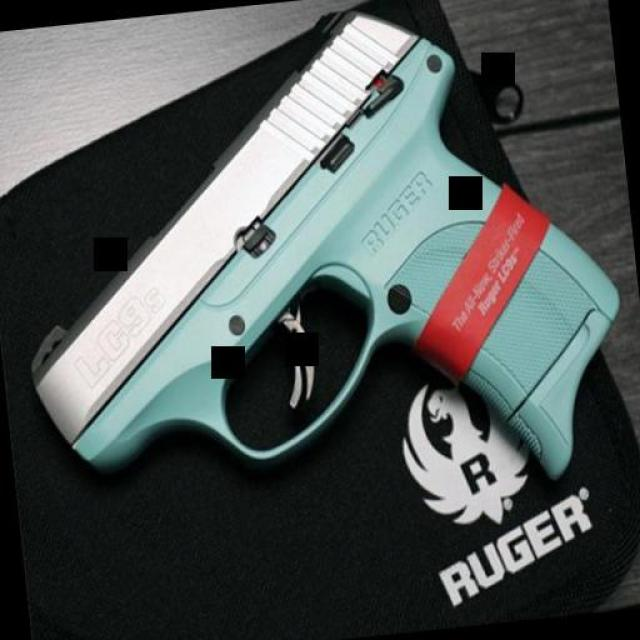gun: (0, 0, 629, 556)
